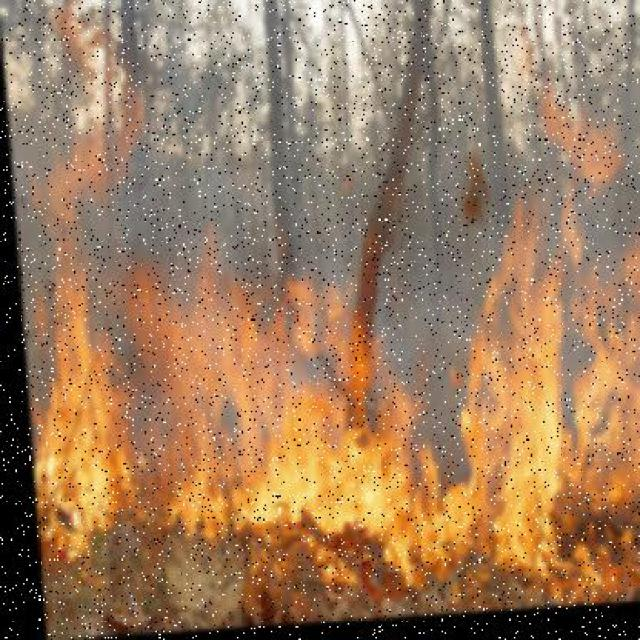fire: (15, 201, 639, 612)
